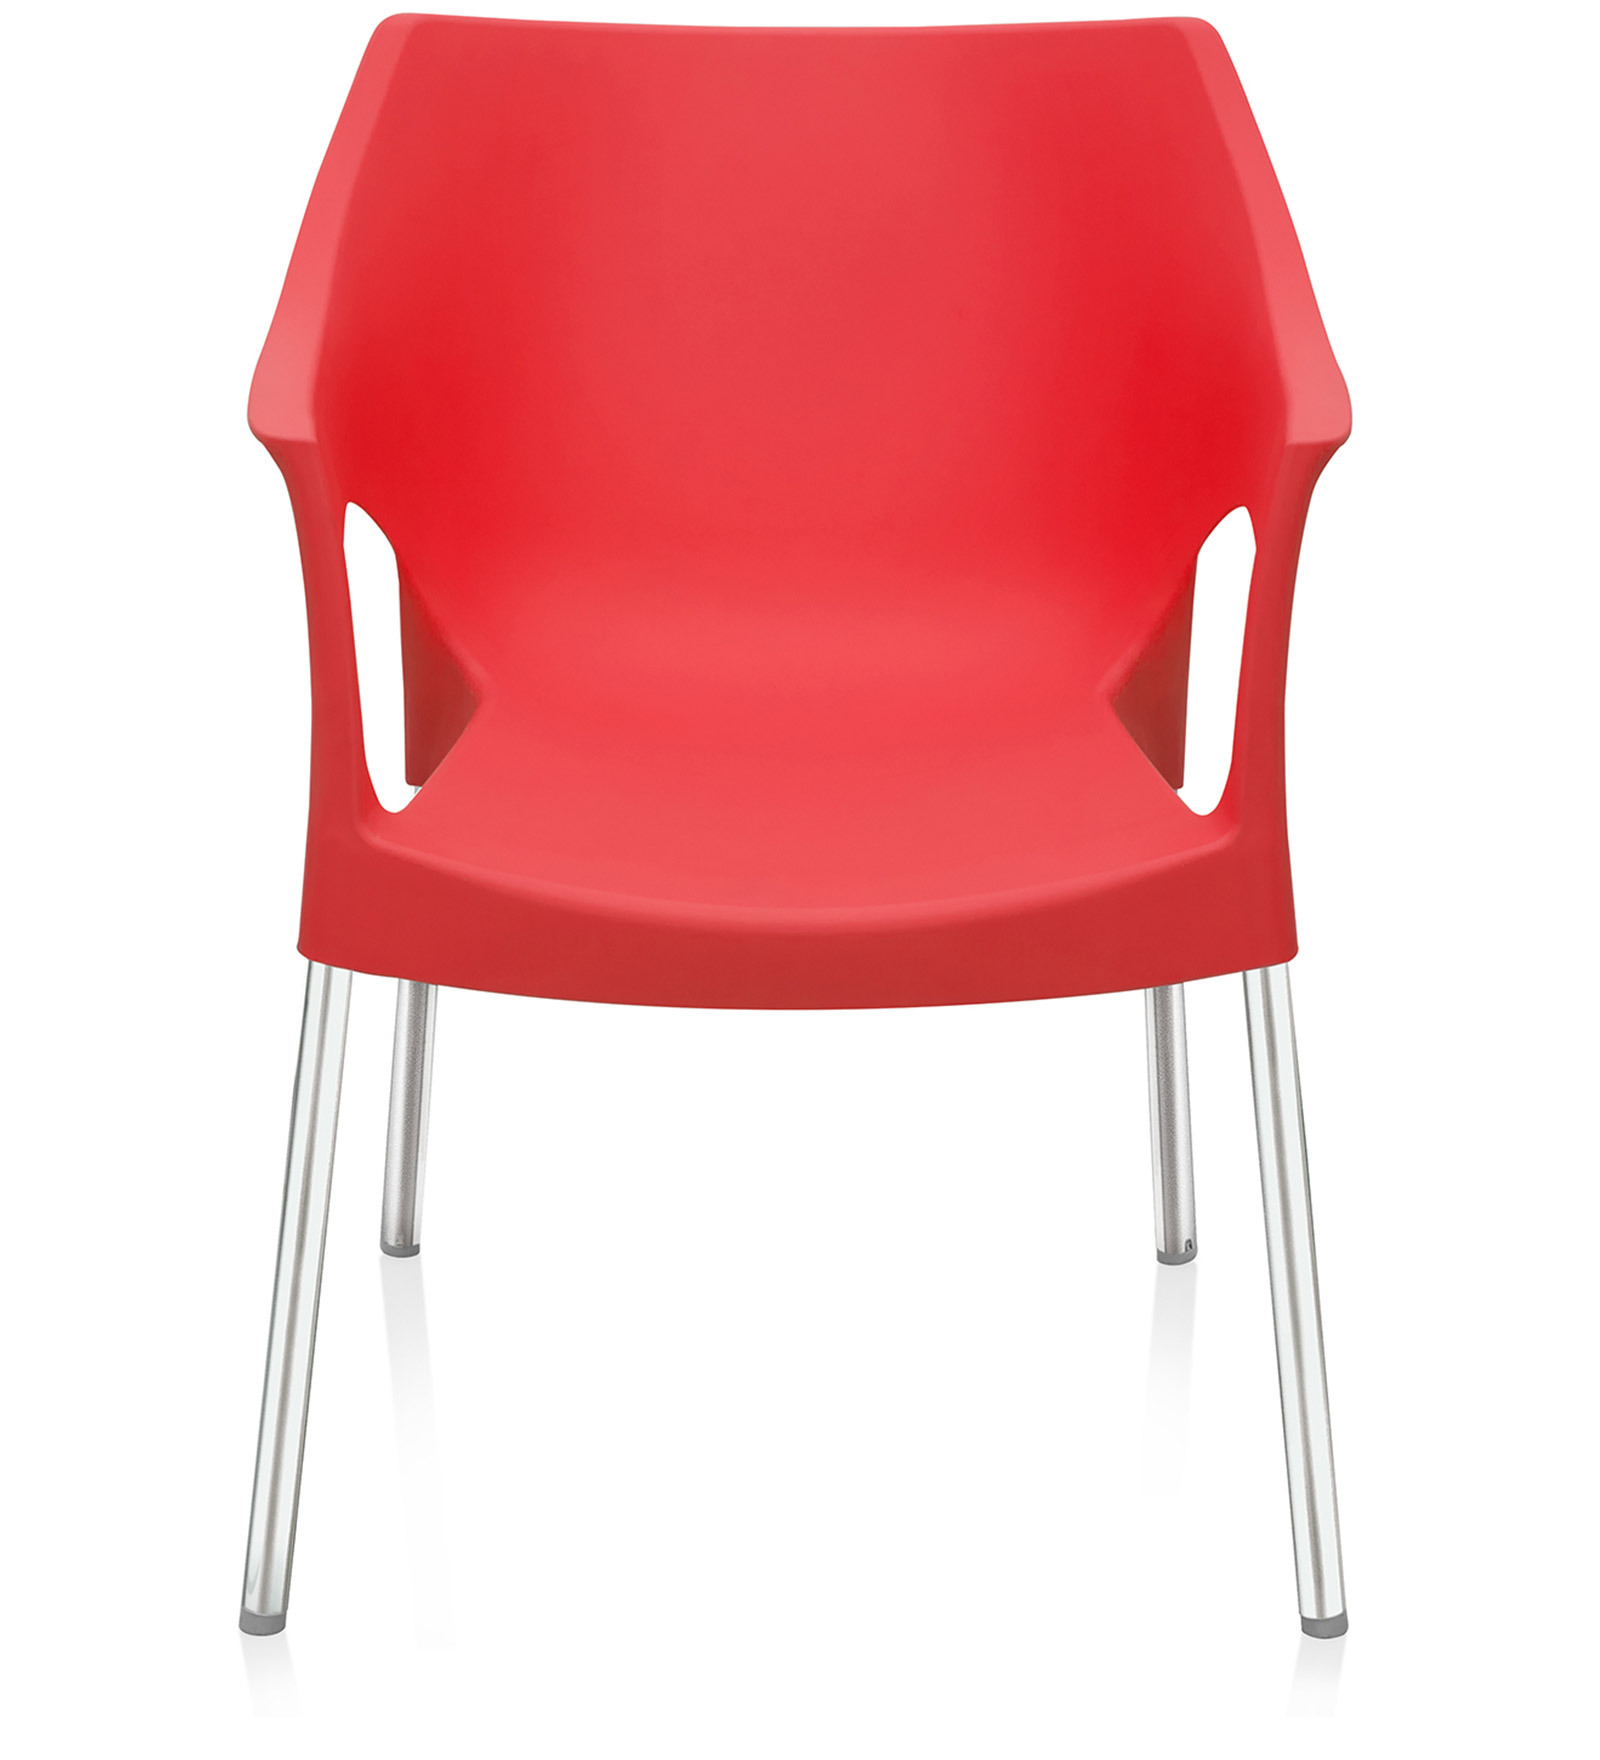Novella Series - 10 Set of 2 Chairs in Red Color by Nilkamal: (247, 9, 1372, 1643)
